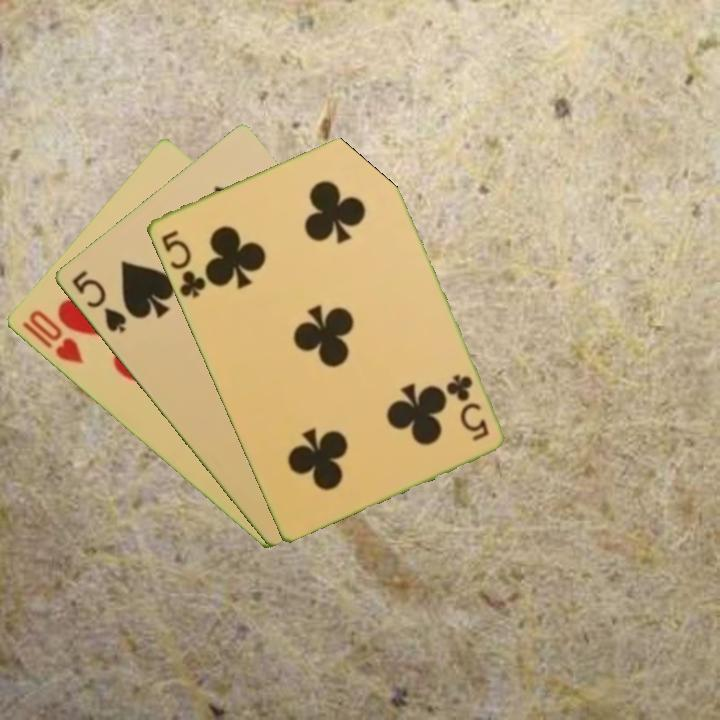10h: (18, 306, 87, 368)
5c: (157, 226, 209, 301), (442, 370, 492, 444)
5s: (67, 267, 129, 336)
